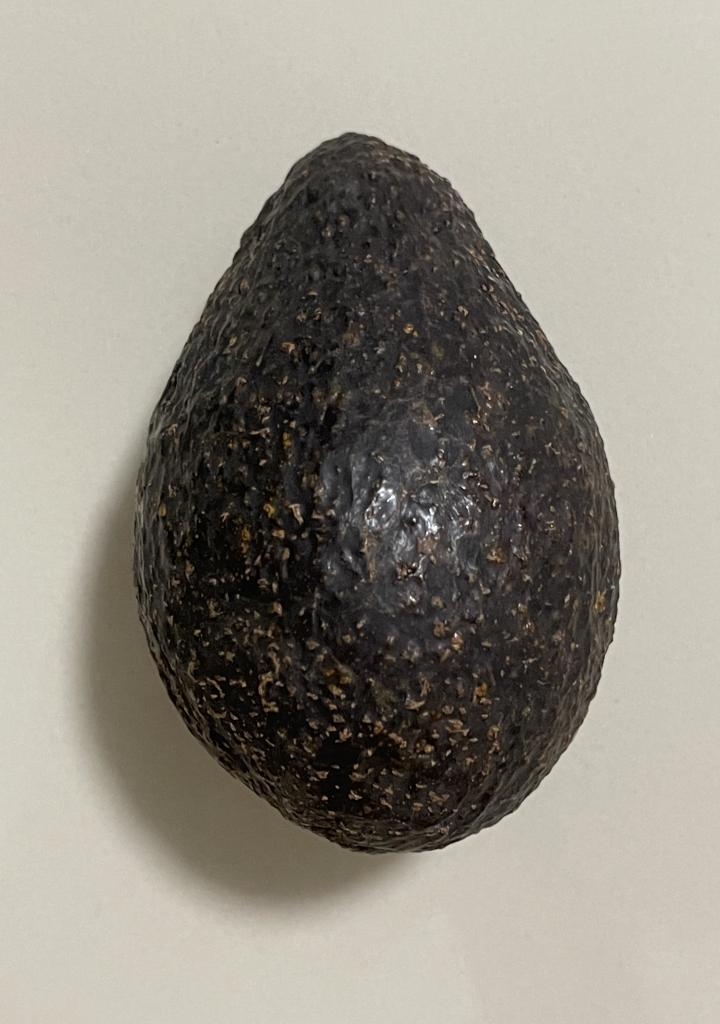Level3: (122, 119, 631, 868)
